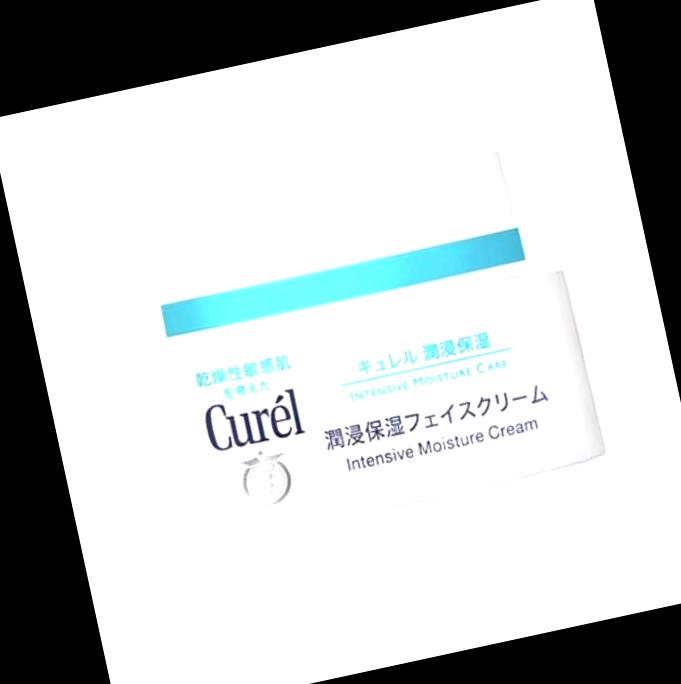cosmetic: (97, 135, 609, 552)
